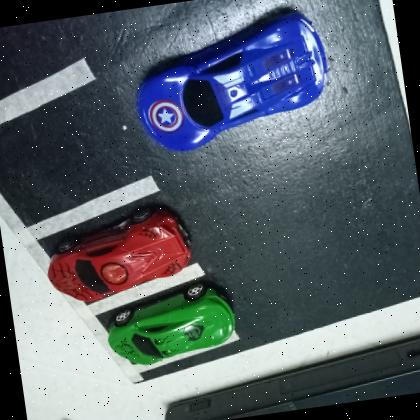Car: (125, 3, 338, 160), (40, 201, 198, 308), (100, 280, 241, 372)
